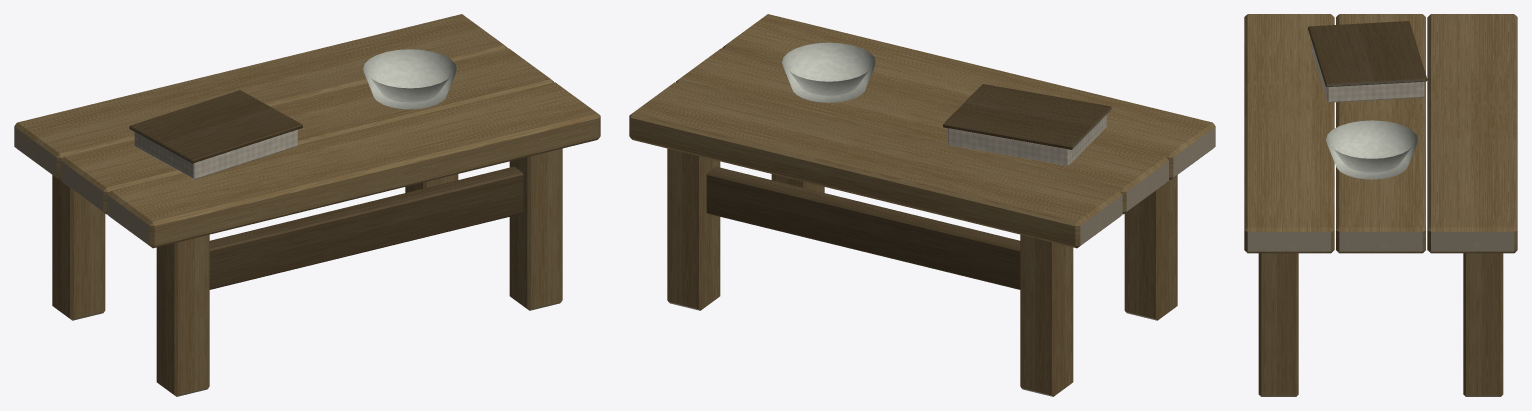
3 views of the same model, side by side, from view 1: azimuth 30°, elevation 25°; view 2: azimuth 150°, elevation 25°; view 3: azimuth 270°, elevation 25° (orthographic).
Parts seen in each view (by area): view 1: Mesh_warm, Mesh_dark, Mesh_stone, Mesh_endgrain, Mesh_linen; view 2: Mesh_warm, Mesh_dark, Mesh_stone, Mesh_endgrain, Mesh_linen; view 3: Mesh_warm, Mesh_dark, Mesh_endgrain, Mesh_stone, Mesh_linen.
Boxes of the visible parts, <box> form: Mesh_warm: <box>14,14,600,395</box>; Mesh_dark: <box>129,90,523,289</box>; Mesh_stone: <box>363,49,456,109</box>; Mesh_endgrain: <box>14,127,560,396</box>; Mesh_linen: <box>134,129,297,179</box>; Mesh_warm: <box>629,14,1215,395</box>; Mesh_dark: <box>706,84,1111,289</box>; Mesh_stone: <box>782,42,875,102</box>; Mesh_endgrain: <box>669,108,1215,396</box>; Mesh_linen: <box>948,115,1106,165</box>; Mesh_warm: <box>1244,14,1517,395</box>; Mesh_dark: <box>1308,21,1427,86</box>; Mesh_endgrain: <box>1247,79,1514,396</box>; Mesh_stone: <box>1326,120,1418,179</box>; Mesh_linen: <box>1311,39,1424,102</box>.
Bounding box in the file's own units: 1.15 × 0.526 × 0.615.
5 materials, 5 textured.
